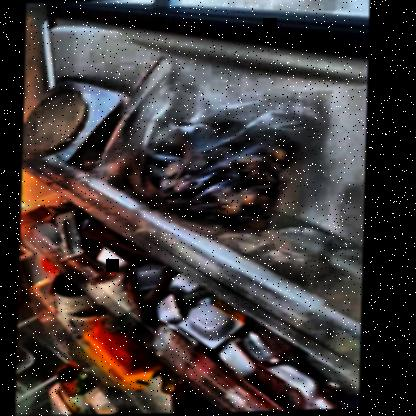butter: (85, 342, 149, 383)
dates: (129, 122, 282, 210)
milk: (90, 386, 130, 414)
salami: (25, 94, 89, 148)
